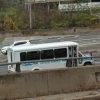Bus: (3, 40, 86, 70)
